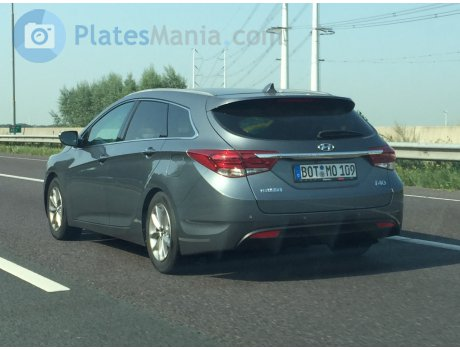License Plates: (302, 164, 353, 175)
